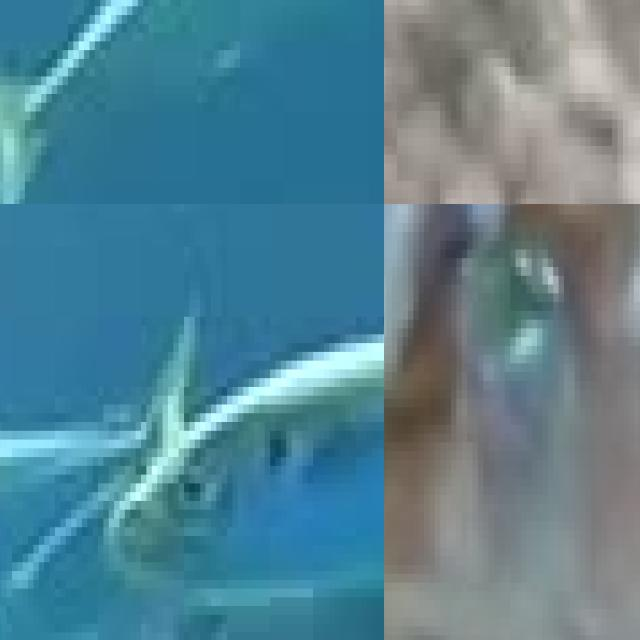fish: (384, 204, 640, 640), (0, 0, 384, 204)
